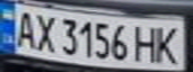1: (75, 18, 93, 57)
3: (57, 16, 78, 56)
5: (90, 19, 112, 60)
6: (109, 21, 133, 62)
A: (9, 7, 39, 50)
H: (130, 21, 160, 64)
K: (151, 22, 184, 65)
X: (30, 11, 60, 53)
